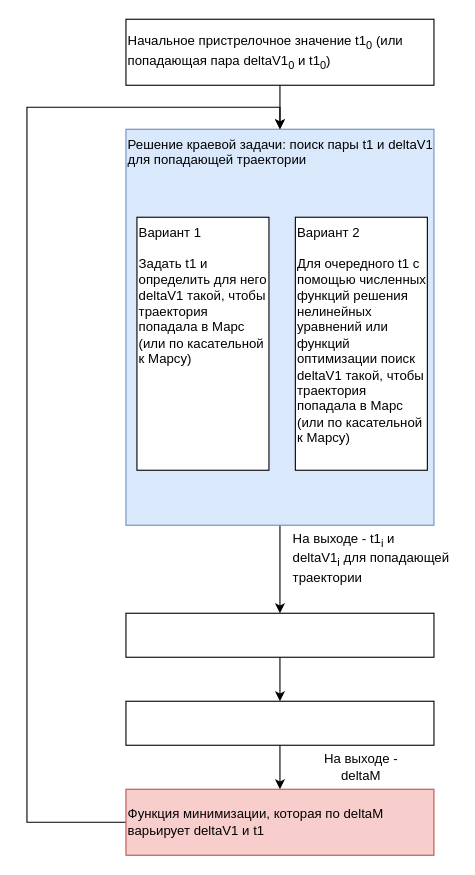
Image size: 475x875. Some labels were removed from this diagram. The shapes that lost their labels are listed below. From the top down, each one's box as (x1, y1, x2, y2) in pixels, then its label:
(125, 612, 434, 657): Определение deltaV2 для перехода на орбиту Марса
(125, 700, 434, 745): Определение затрат топлива по deltaV1 и deltaV2
